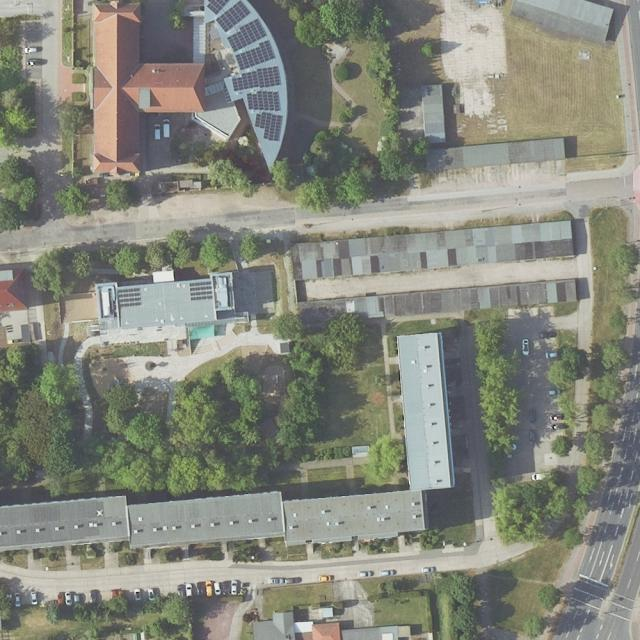PV: (227, 18, 267, 51), (235, 39, 275, 70), (232, 65, 281, 90), (216, 0, 251, 31), (253, 112, 282, 141), (246, 91, 281, 111), (188, 280, 213, 301), (117, 288, 141, 307), (206, 0, 230, 15), (4, 324, 14, 332)
